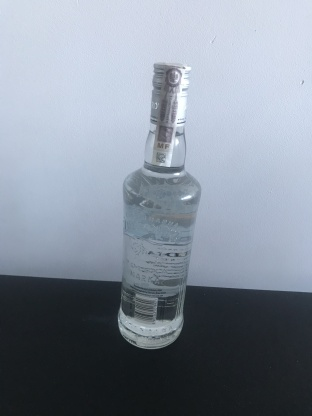nakretka: (148, 58, 195, 128)
